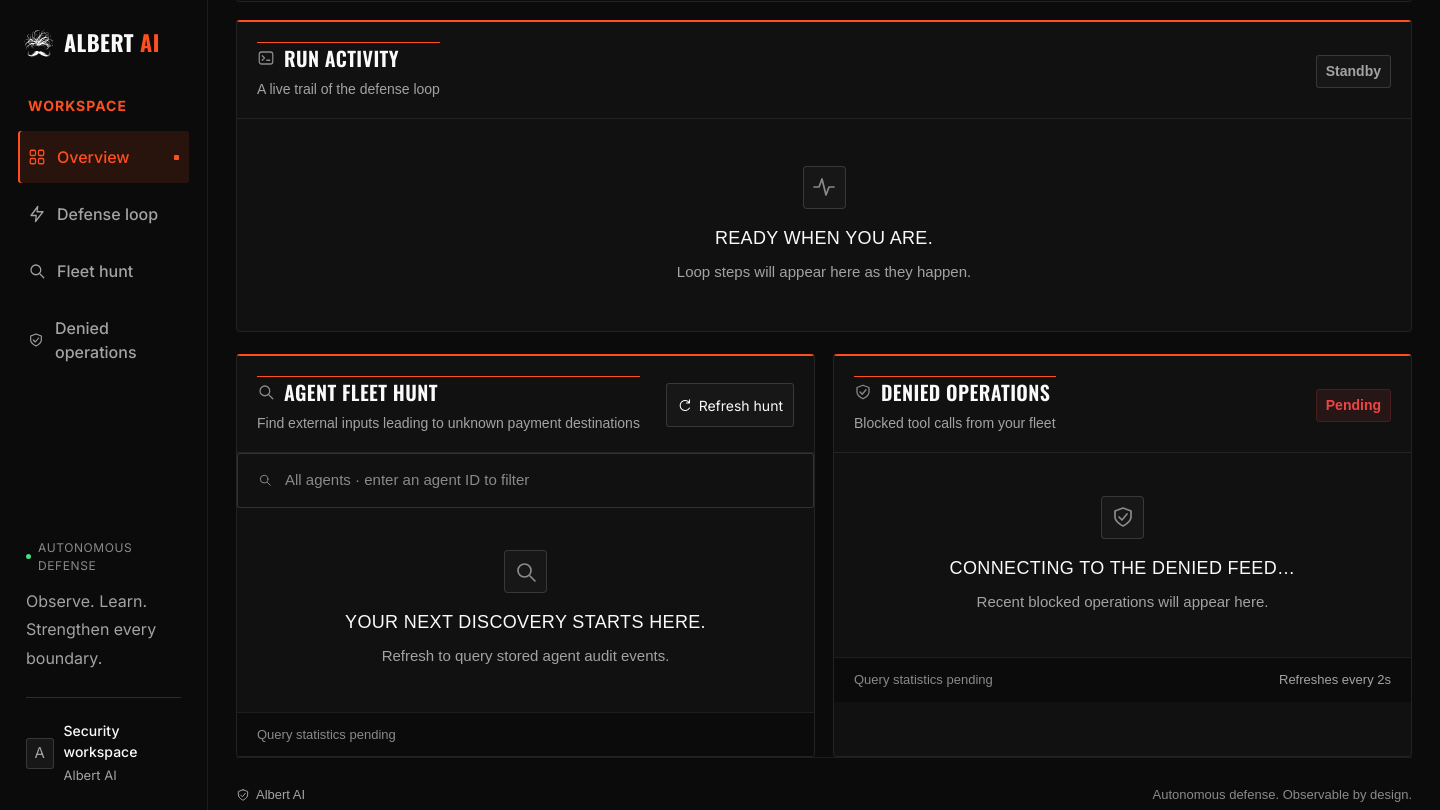
Albert AI dashboard › does not invent statistics when a fleet query omits them
This screenshot has width=1440, height=810.
(page scrolled)
Click the button "Refresh hunt".
click(730, 405)  # box [666, 383, 794, 427]
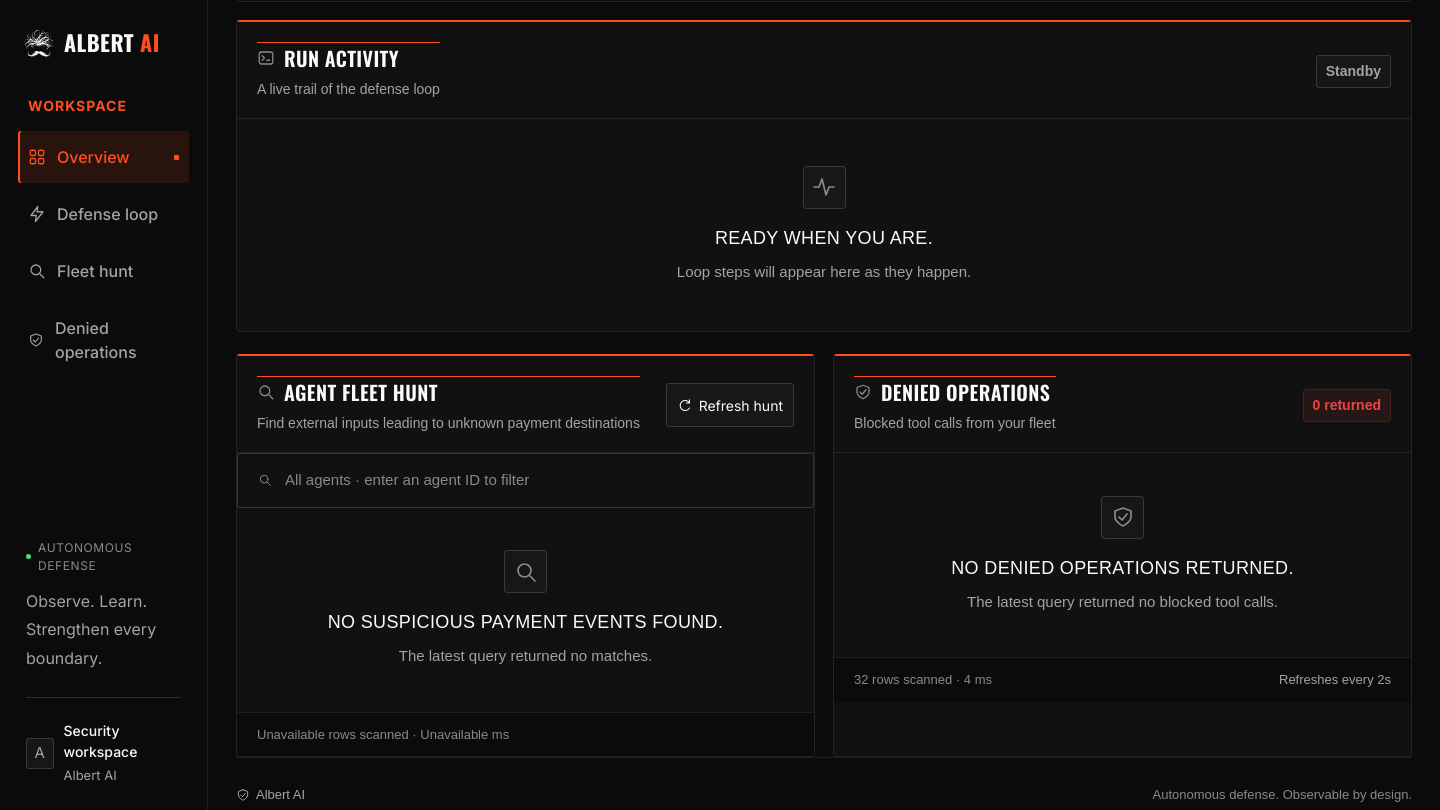
Check: the text "Unavailable rows scanned · Unavailable ms" is shown, box [257, 725, 509, 744]
